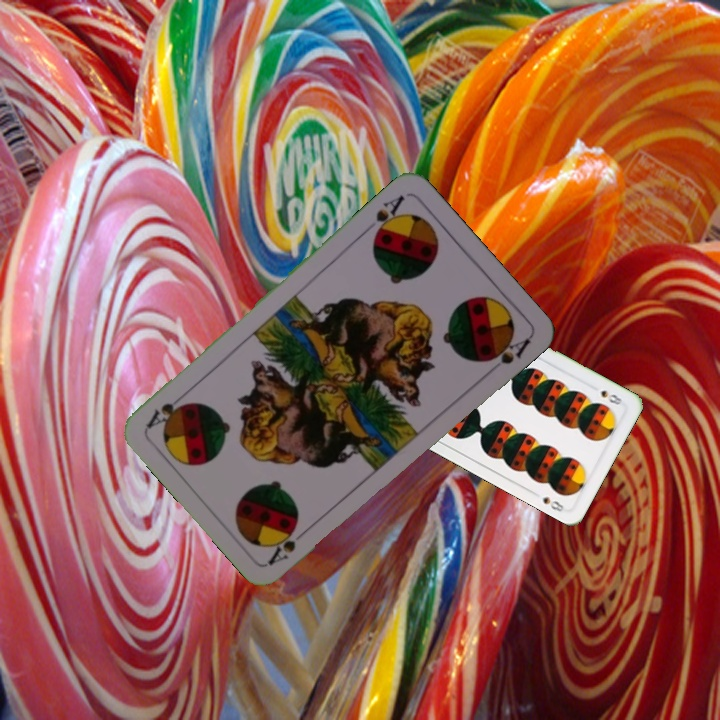S8: (597, 386, 625, 408)
SA: (360, 190, 408, 243), (264, 522, 313, 568)
